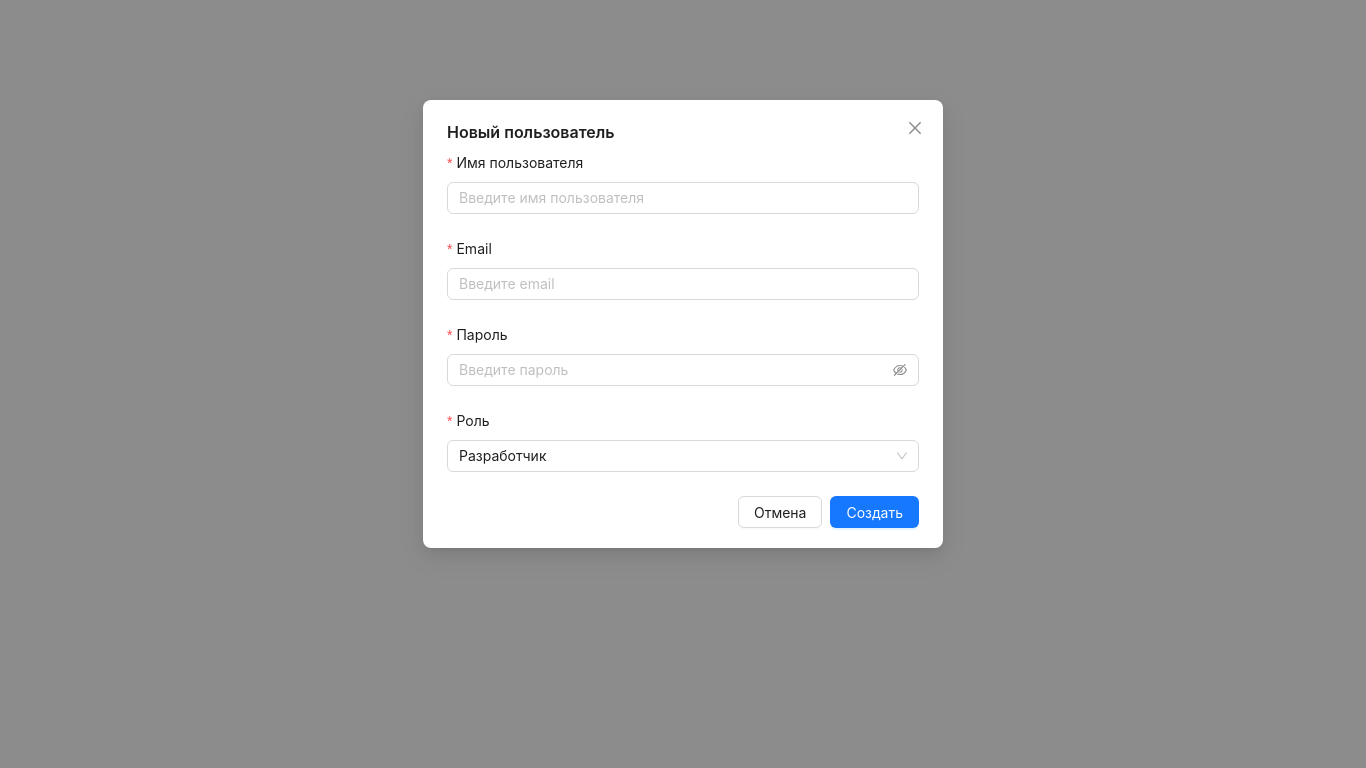
UserFormModal › режим создания › валидирует минимальную длину пароля
Note: Заполняем поля с коротким паролем
Type "newuser" into the field labelled "Имя пользователя". click: (683, 198)
box: [447,182,919,214]
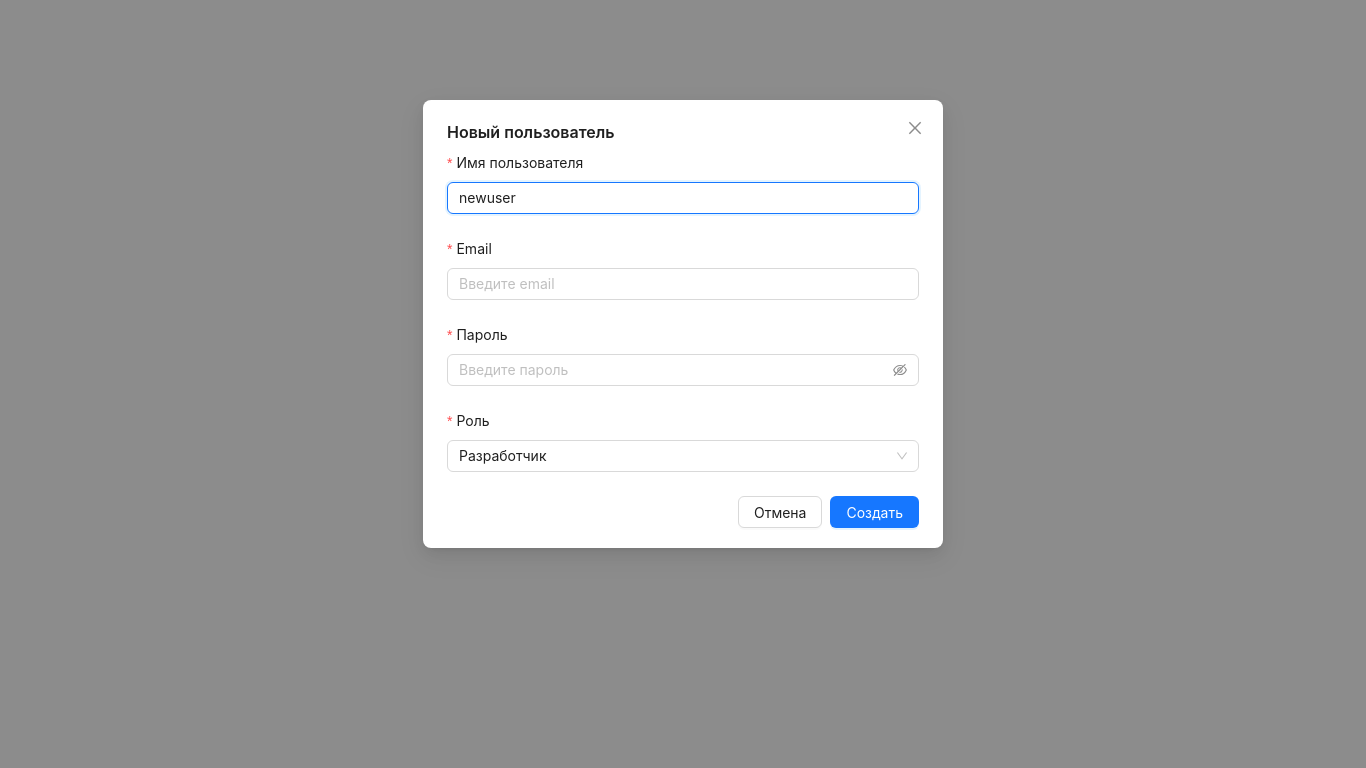
Type "test@example.com" into the field labelled "Email". click: (683, 284)
box: [447,268,919,300]
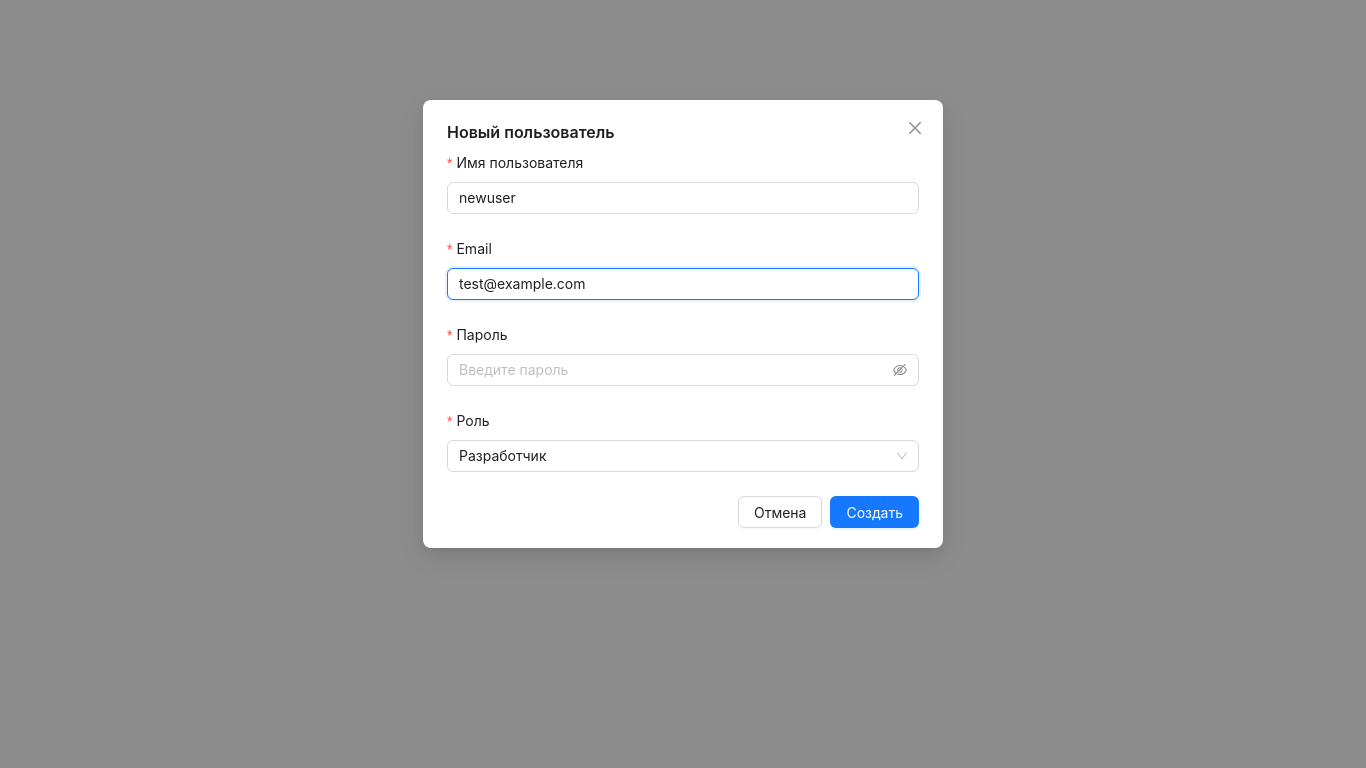
Type "short" into the password field labelled "Пароль". click: (674, 370)
box: [459,359,889,381]
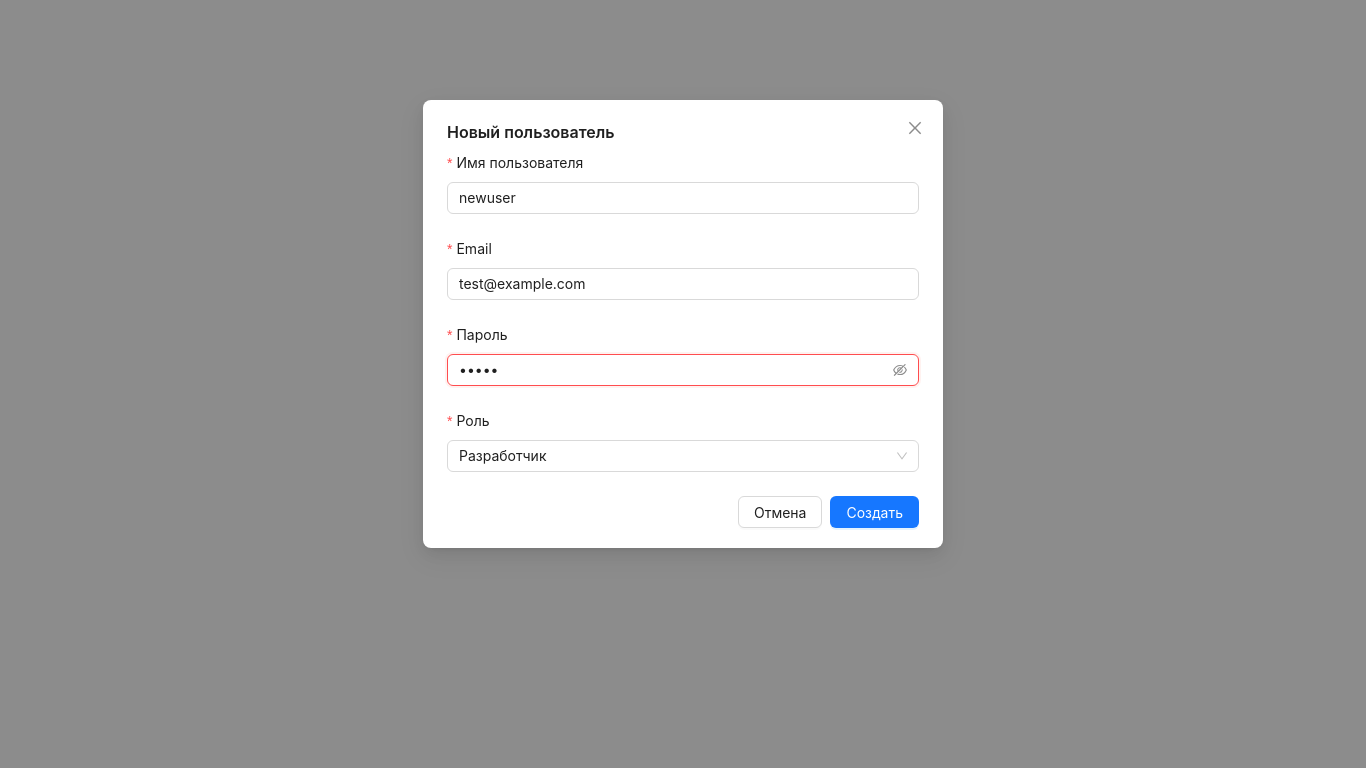
Note: Кликаем Создать
Click the button "Создать". click: click(875, 512)
box: [830,496,919,528]
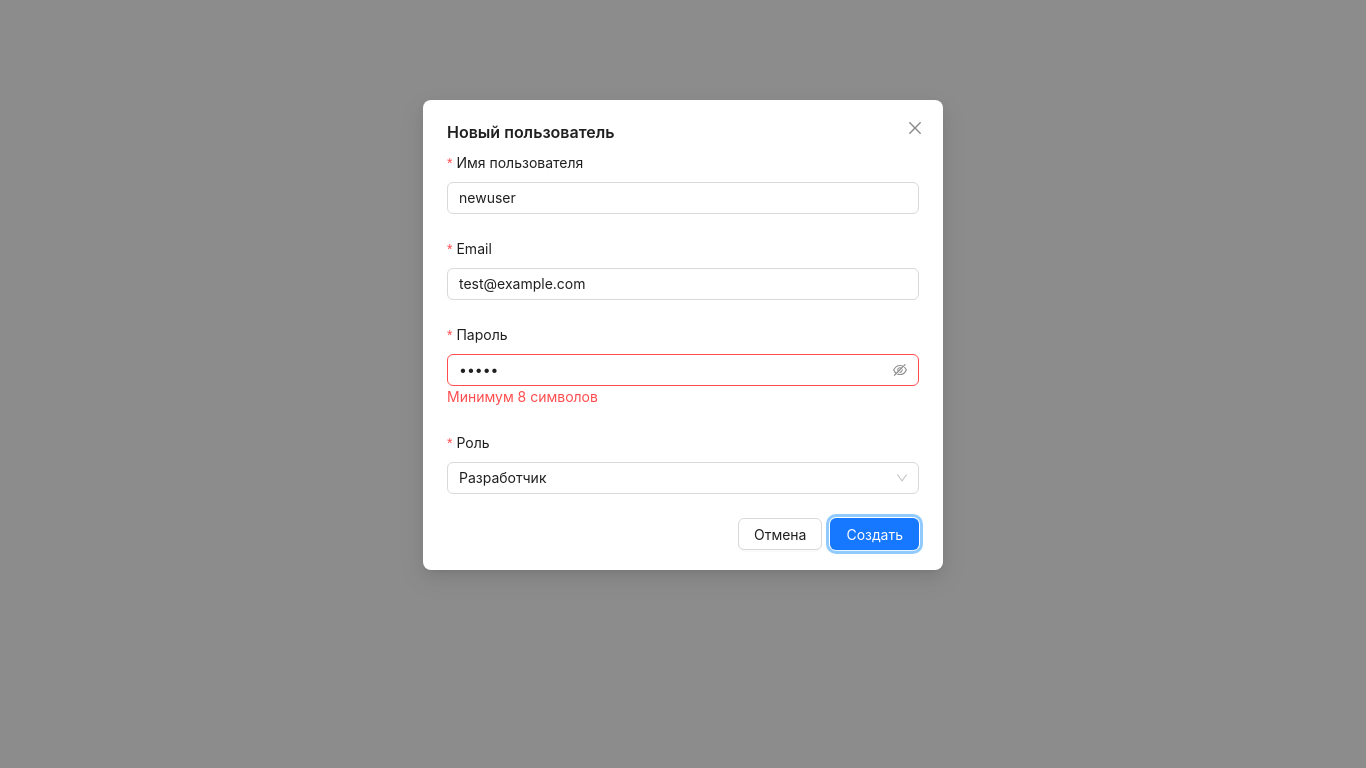
Expected: the text "Минимум 8 символов" is shown, [447,388,598,405]
